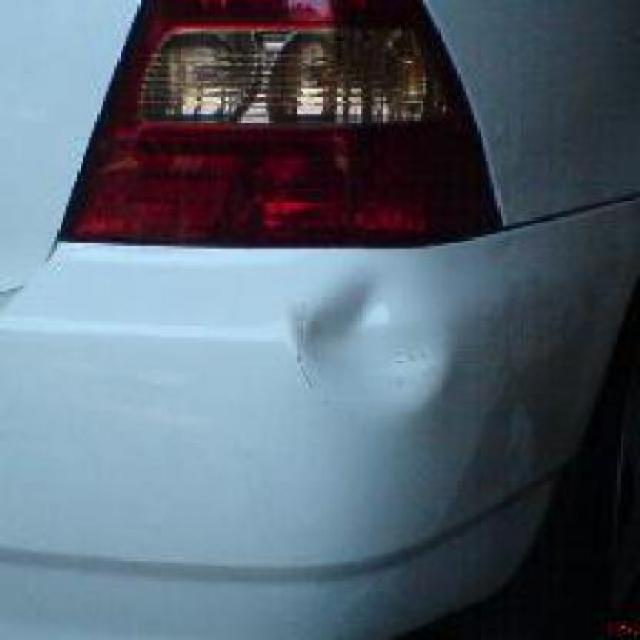dent-or-scratch: (274, 266, 456, 420), (470, 399, 535, 521)
